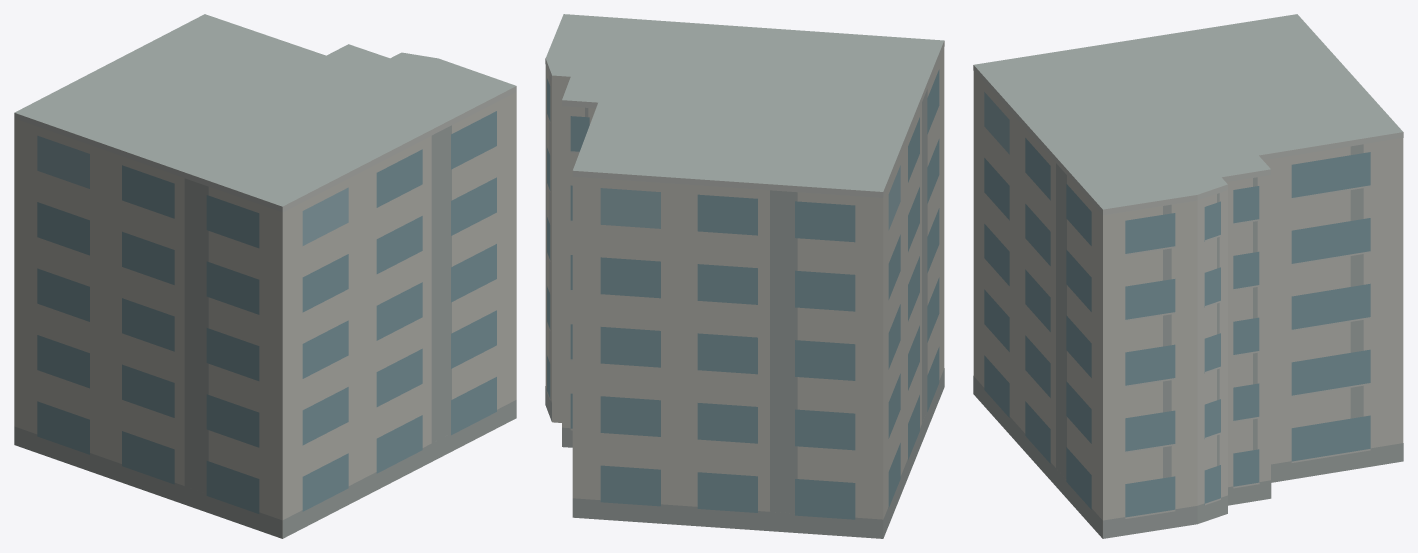
File: survey-upis-32848268.glb
The picture shows the model from 3 angles, left to right: view 1: azimuth 30°, elevation 25°; view 2: azimuth 150°, elevation 25°; view 3: azimuth 270°, elevation 25°; orthographic projection. The views are drawn at different scales.
Parts seen in each view (by area): view 1: survey-upis-32848268.tmp; view 2: survey-upis-32848268.tmp; view 3: survey-upis-32848268.tmp.
Boxes of the visible parts, x1=… form: survey-upis-32848268.tmp: x1=14, y1=14, x2=516, y2=538; survey-upis-32848268.tmp: x1=545, y1=14, x2=944, y2=538; survey-upis-32848268.tmp: x1=973, y1=14, x2=1403, y2=538.
Size of the model in its own units: 17.71 by 13.9 by 16.46.
